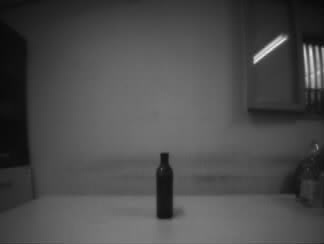Bottle: (156, 152, 174, 220)
